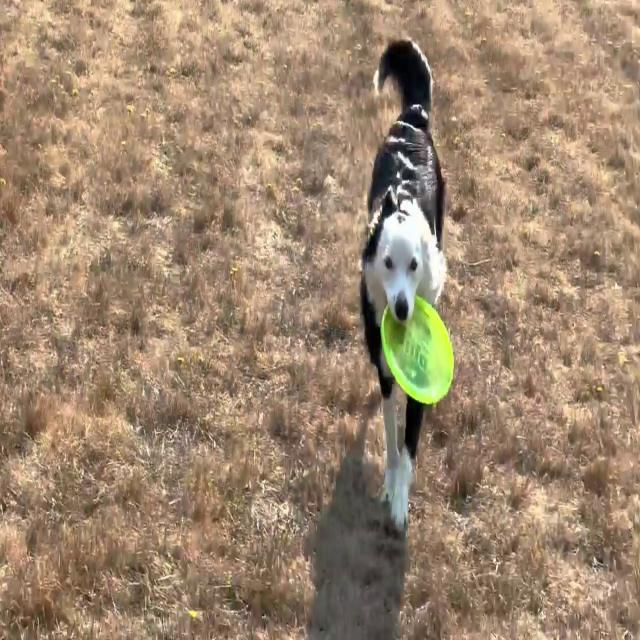Dog: (359, 38, 448, 535)
